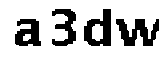3: (50, 7, 79, 51)
a: (14, 18, 46, 48)
d: (82, 7, 116, 49)
w: (113, 14, 160, 49)
